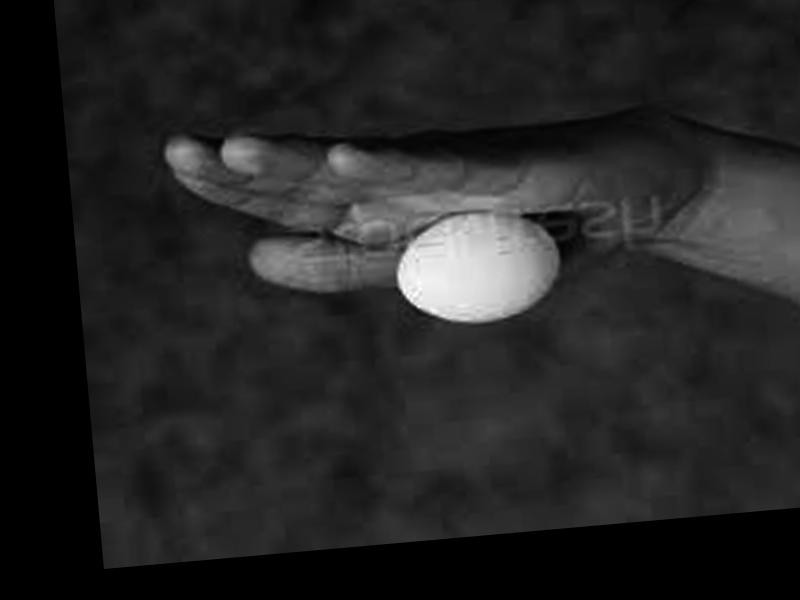Eggs: (392, 205, 566, 332)
